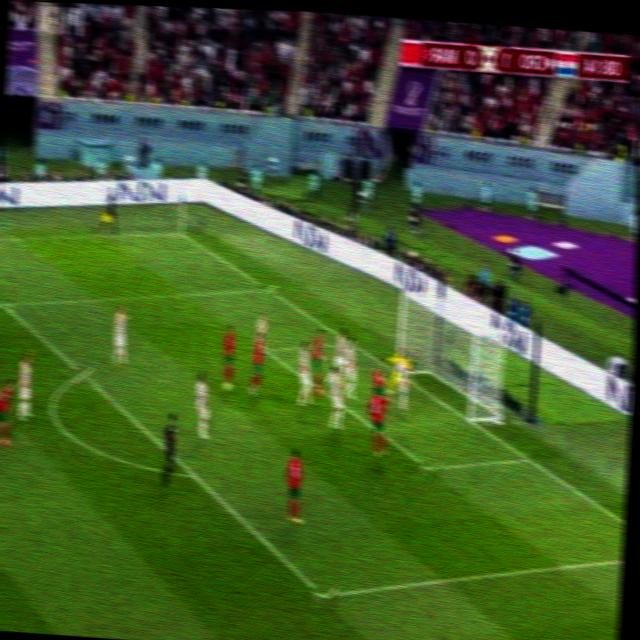bigarea_bottom_inner: (310, 576, 337, 611)
bigarea_top_inner: (0, 290, 15, 316)
bigarea_top_outter: (257, 277, 278, 299)
bottom_arc_area_intersection: (183, 460, 206, 487)
corner: (168, 223, 193, 241)
smallarea_bottom_inner: (418, 453, 441, 483)
smallarea_bottom_outter: (514, 443, 539, 471)
smallarea_top_inner: (256, 338, 275, 359)
top_arc_area_intersection: (72, 361, 94, 385)
